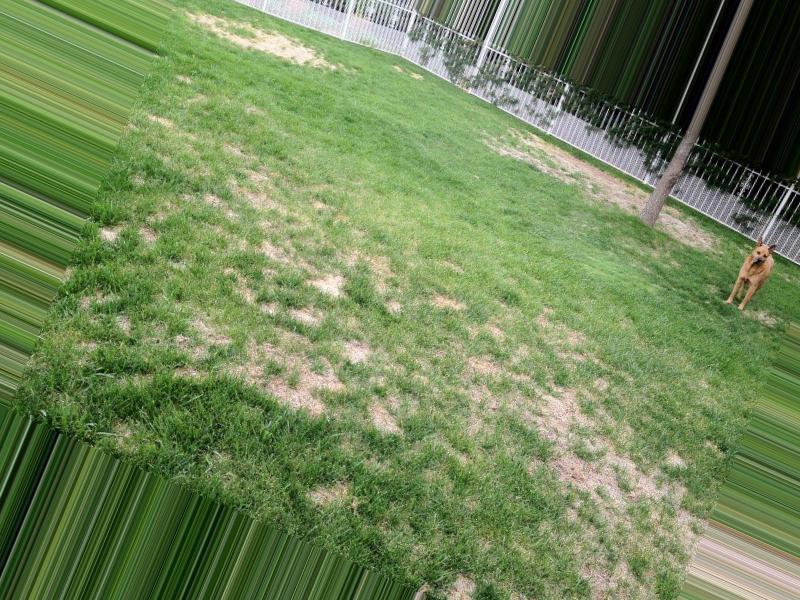patch: (518, 130, 617, 211), (538, 402, 614, 488), (254, 356, 338, 411), (225, 16, 317, 62), (310, 272, 361, 318), (189, 320, 237, 346)
